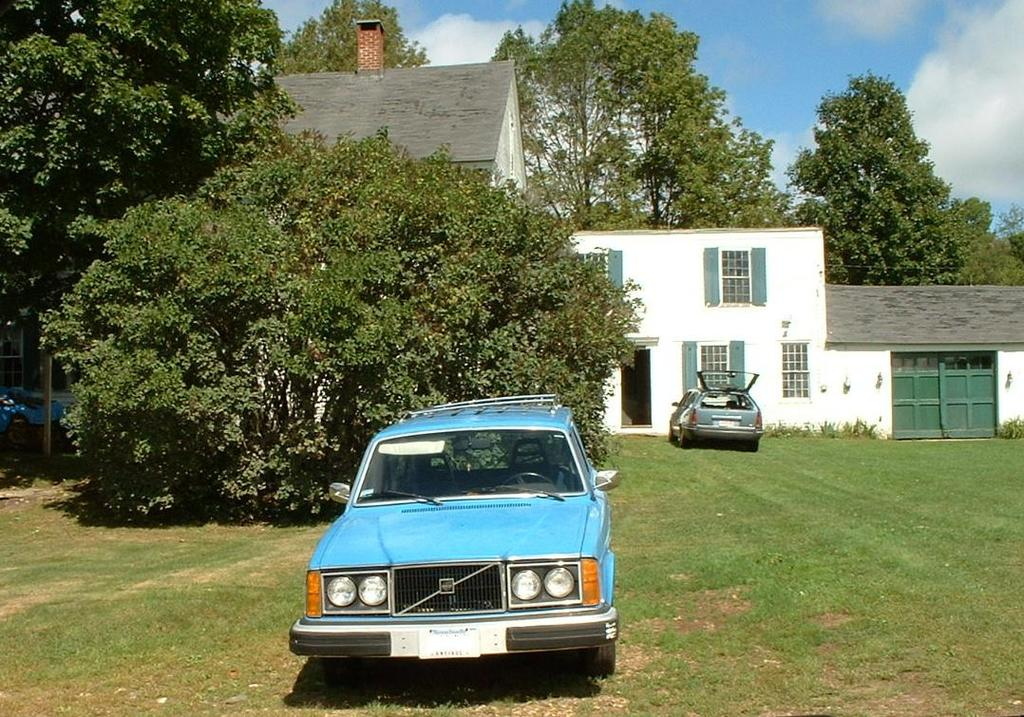Car: (284, 406, 629, 696), (666, 369, 762, 451), (0, 396, 72, 459)
